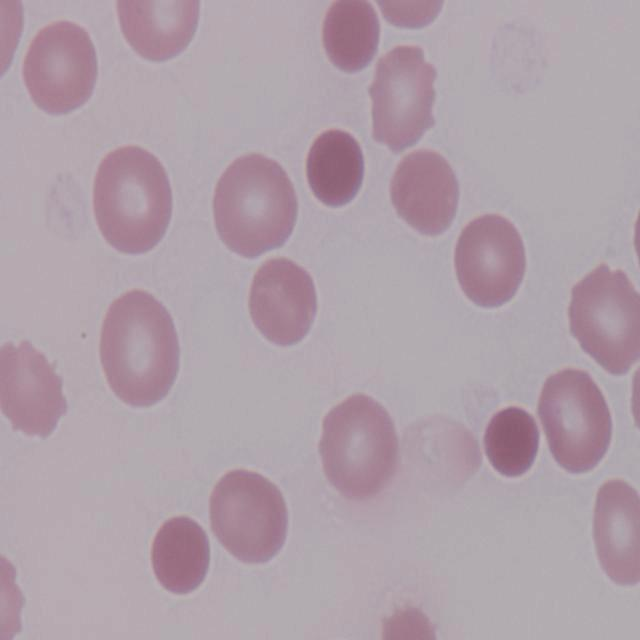RBC: (95, 285, 184, 409), (89, 142, 177, 256), (210, 152, 302, 260), (316, 392, 402, 502), (538, 366, 622, 476), (208, 469, 296, 572), (22, 13, 104, 120), (366, 39, 440, 153), (564, 270, 640, 379), (452, 211, 532, 311), (0, 334, 68, 444), (247, 256, 324, 352), (387, 144, 462, 238), (587, 474, 640, 594), (114, 0, 205, 65), (372, 0, 454, 31), (0, 0, 27, 81)
Spherocyte: (147, 512, 210, 598), (303, 128, 367, 209), (318, 0, 378, 76), (482, 404, 541, 480)
